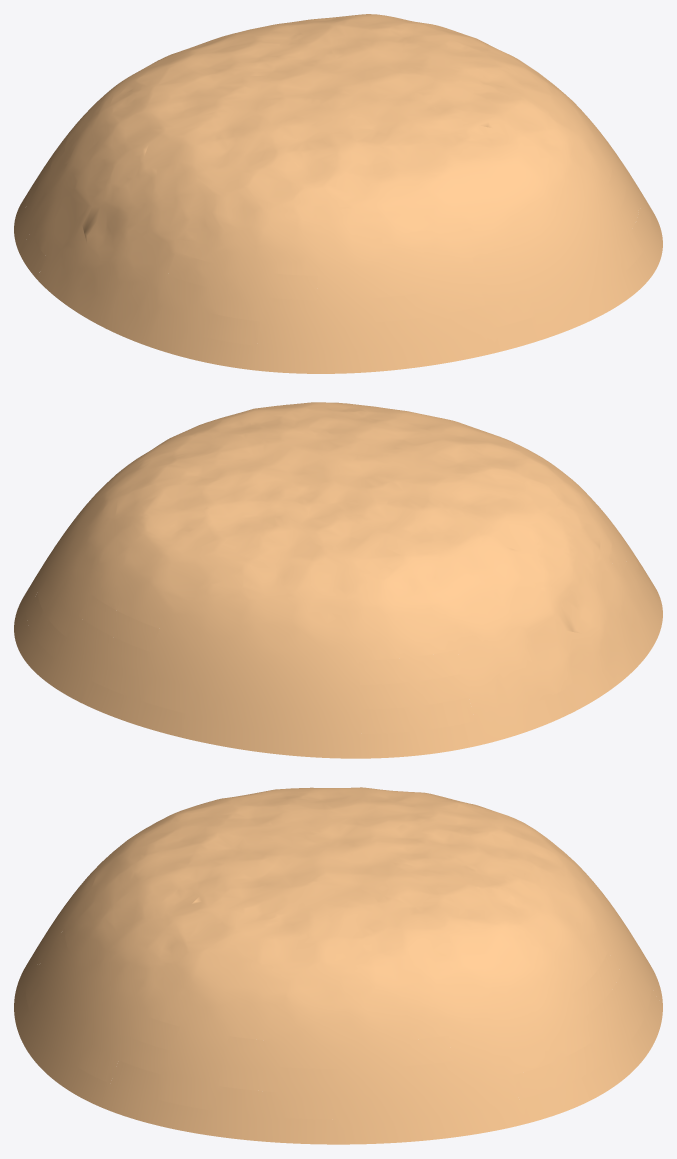
File: beach_model.glb
3 renders of one model, top to bottom at view 1: azimuth 30°, elevation 25°; view 2: azimuth 150°, elevation 25°; view 3: azimuth 270°, elevation 25°, orthographic. The views are drawn at different scales.
Visible parts, largest first — view 1: Plane.005_Plane.007_Material.002_Material.002_0; view 2: Plane.005_Plane.007_Material.002_Material.002_0; view 3: Plane.005_Plane.007_Material.002_Material.002_0.
Part boxes in pixels (x1,y1,x2,y2): Plane.005_Plane.007_Material.002_Material.002_0: [14, 14, 662, 373]; Plane.005_Plane.007_Material.002_Material.002_0: [14, 402, 662, 758]; Plane.005_Plane.007_Material.002_Material.002_0: [14, 787, 662, 1144].
Size of the model in its own units: 36.56 by 9.96 by 36.56.
